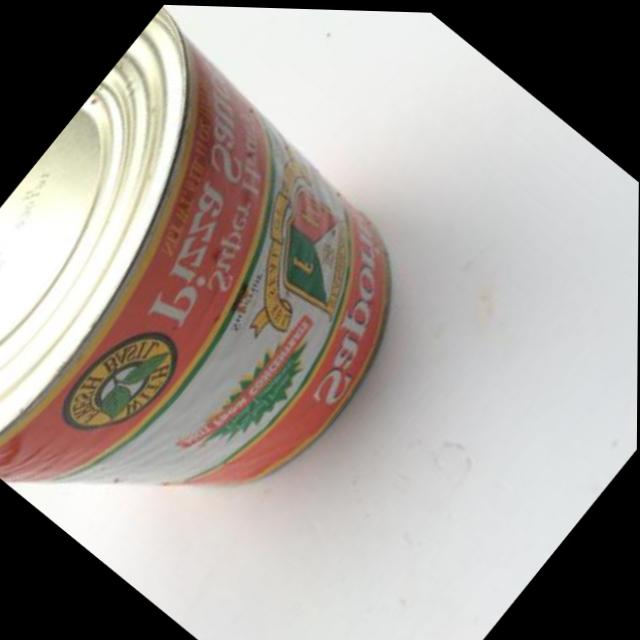metal: (0, 1, 471, 630)
